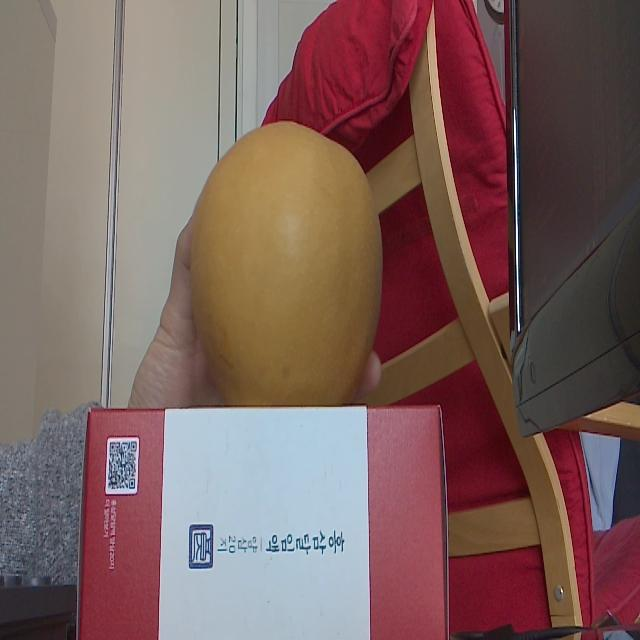pear: (194, 111, 386, 408)
